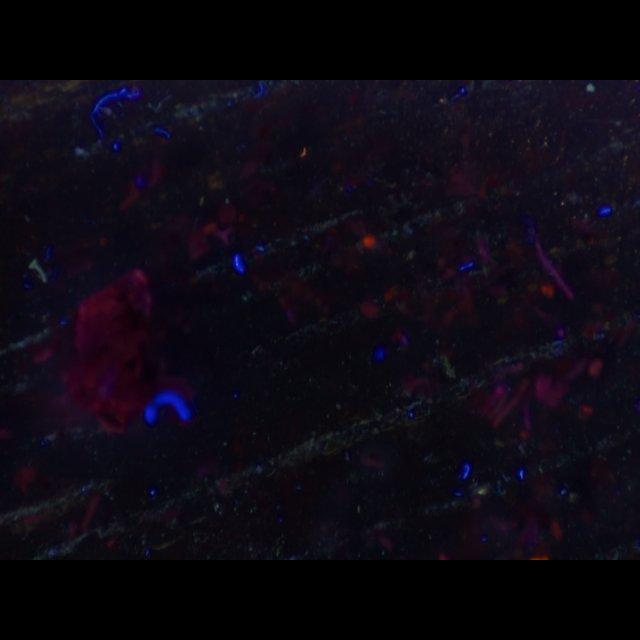microbeads: (582, 81, 600, 95)
